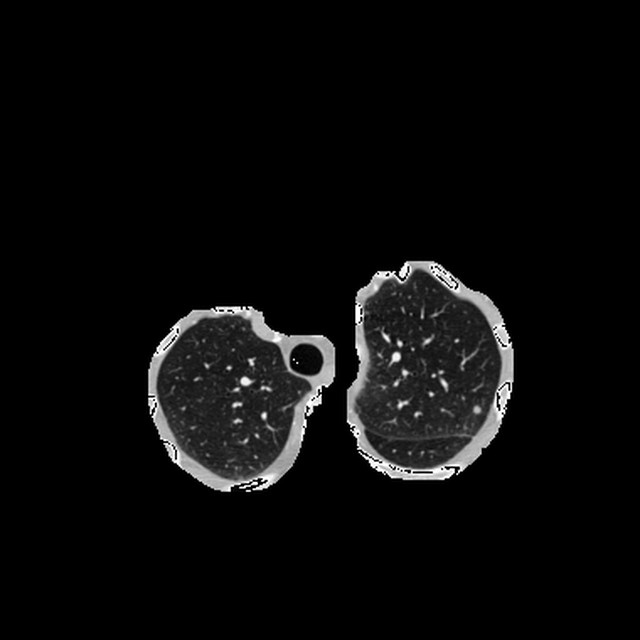PN: (470, 404, 480, 414)
